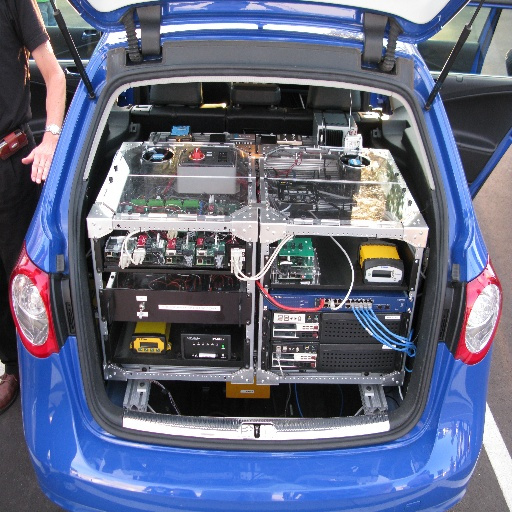hand: (12, 121, 44, 180)
